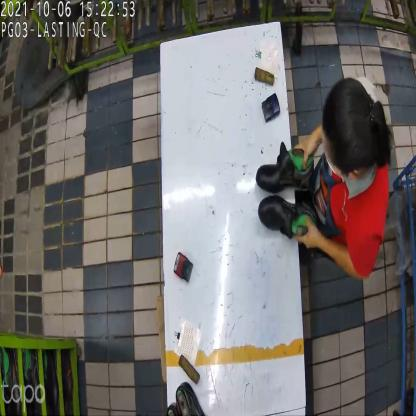shoes: (256, 140, 316, 238)
stamp: (173, 250, 195, 283), (260, 91, 280, 125)
